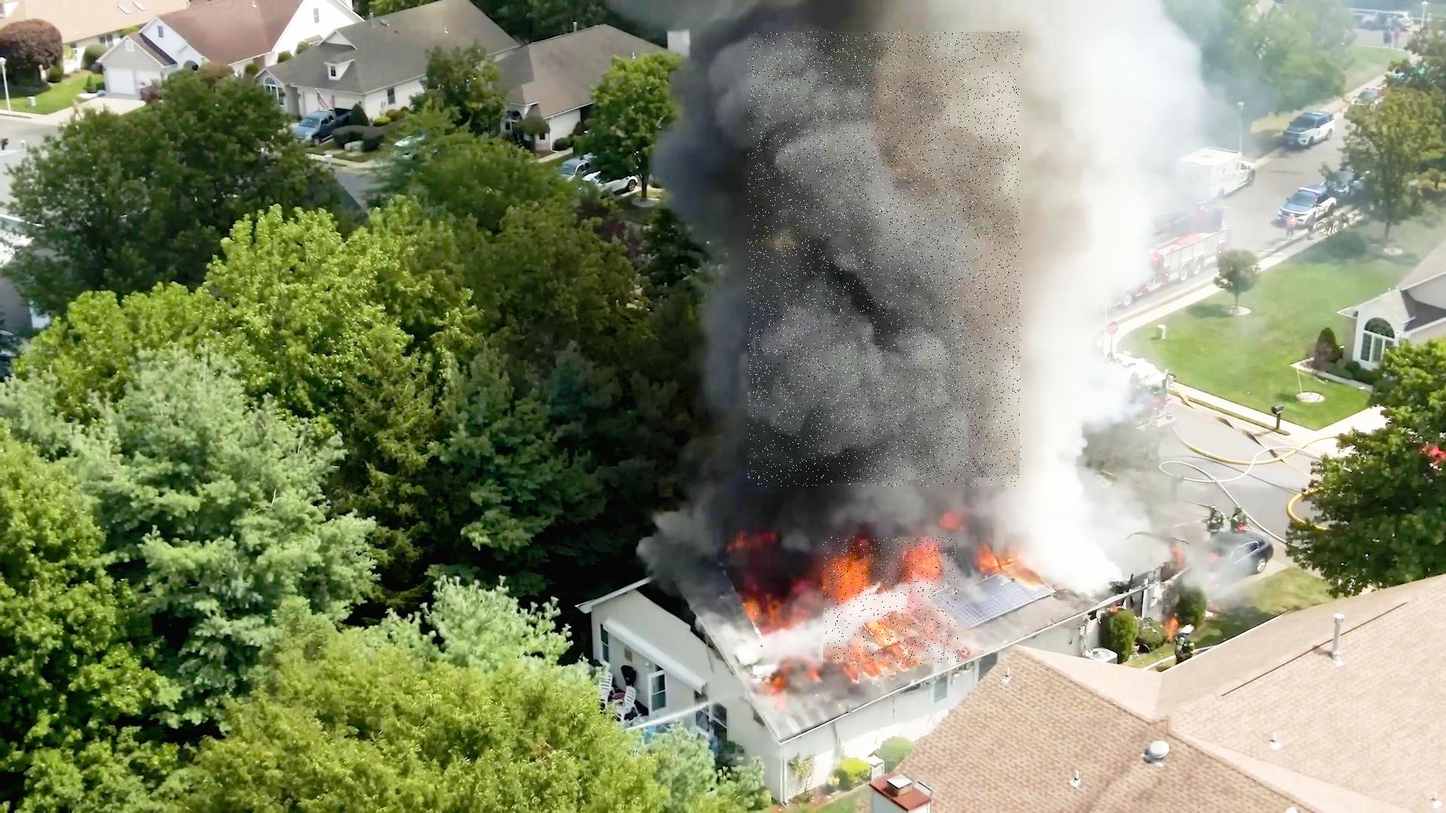fire: (823, 537, 959, 664)
smoke: (748, 32, 1022, 487)
